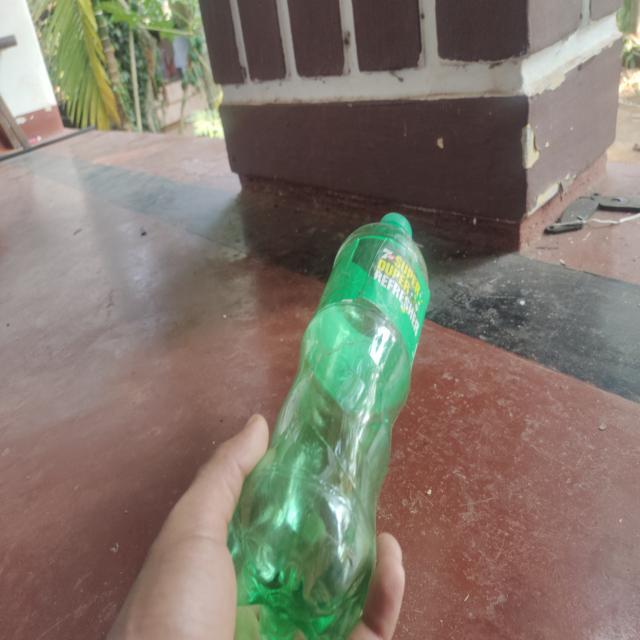plastic: (227, 210, 433, 634)
